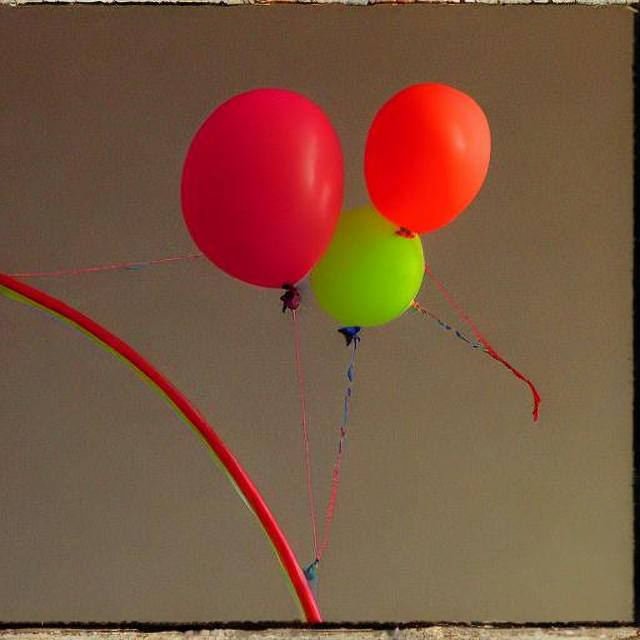balloon: (188, 82, 487, 346)
